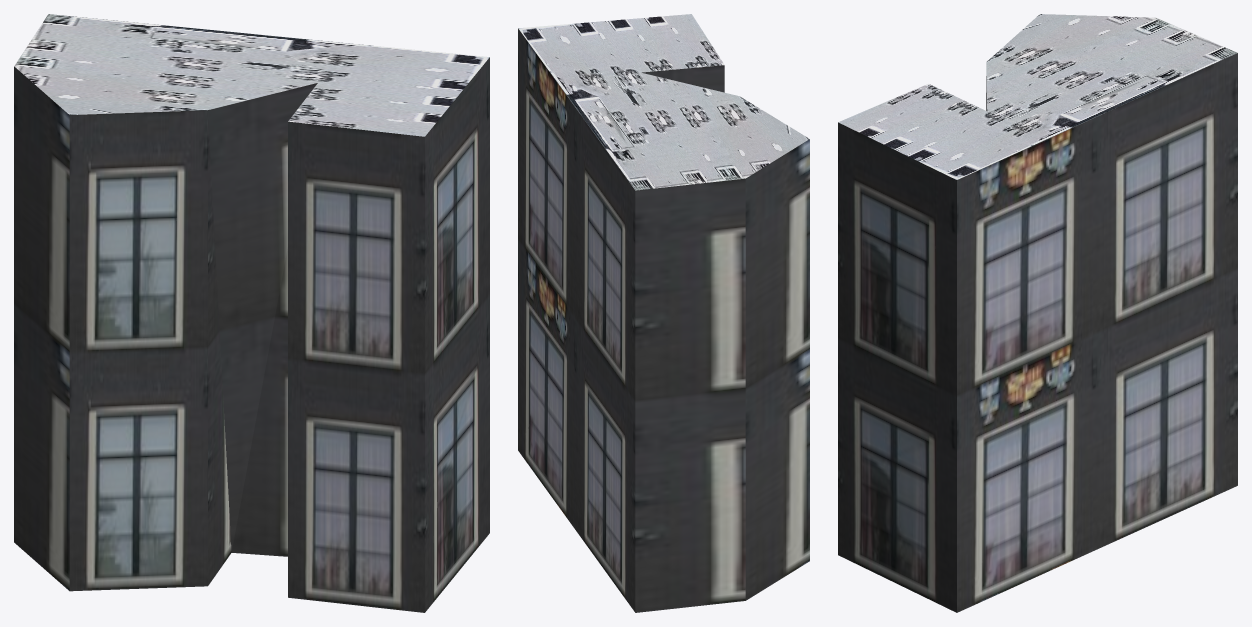
Rendered from ResTex__4838.fbx.
3 views of the same model, side by side, from view 1: azimuth 30°, elevation 25°; view 2: azimuth 150°, elevation 25°; view 3: azimuth 270°, elevation 25° (orthographic). The views are drawn at different scales.
Parts seen in each view (by area): view 1: CityEngineMaterial_22_m, CityEngineMaterial_4_m; view 2: CityEngineMaterial_22_m, CityEngineMaterial_4_m; view 3: CityEngineMaterial_22_m, CityEngineMaterial_4_m.
Boxes of the visible parts, x1,y1,x2,y2 form: CityEngineMaterial_22_m: [14, 57, 489, 612]; CityEngineMaterial_4_m: [14, 14, 489, 136]; CityEngineMaterial_22_m: [518, 28, 809, 612]; CityEngineMaterial_4_m: [518, 14, 809, 190]; CityEngineMaterial_22_m: [838, 53, 1237, 612]; CityEngineMaterial_4_m: [838, 14, 1237, 179].
Size of the model in its own units: 4.94 by 6 by 5.02.
2 materials, 2 textured.
